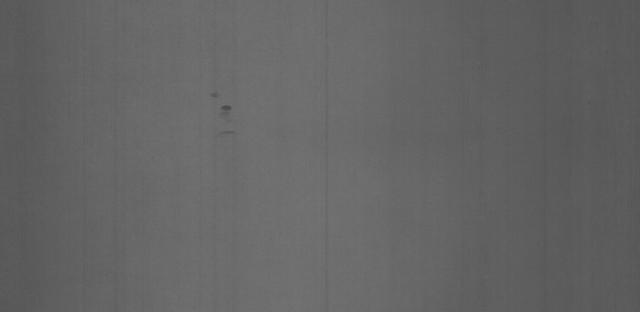oil_spot: (197, 77, 246, 115)
